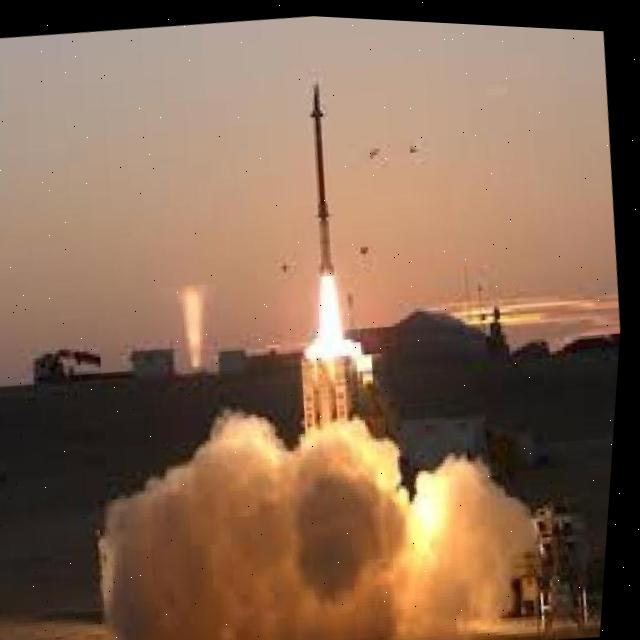missile: (289, 77, 352, 272)
